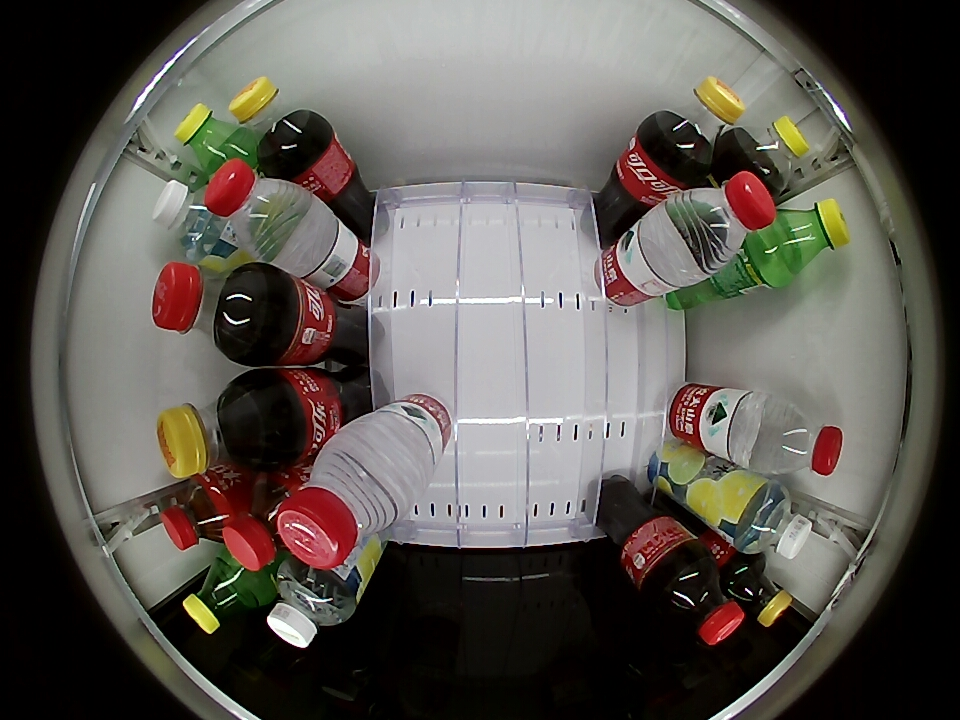baishikele: (734, 115, 810, 191)
binghongcha: (225, 473, 302, 572), (160, 476, 237, 550)
kele-b: (152, 261, 261, 359), (654, 553, 745, 646)
kele-b-2: (157, 380, 272, 476), (652, 76, 745, 169), (229, 76, 321, 166), (728, 559, 792, 628)
nongfushanquan: (277, 431, 417, 568), (670, 171, 778, 273), (203, 158, 309, 257), (753, 397, 844, 478)
qinningshui: (267, 560, 361, 649), (730, 481, 815, 559), (153, 180, 228, 260)
xuebi-b: (765, 198, 850, 277), (184, 557, 263, 634), (175, 102, 248, 175)
